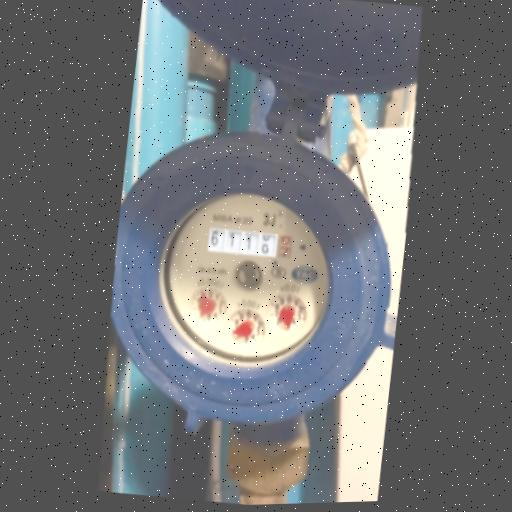1: (226, 231, 241, 250), (243, 233, 258, 252)
6: (279, 235, 292, 258), (210, 230, 224, 250)
8: (260, 234, 275, 254)
border_water_meter_number: (206, 225, 294, 262)
